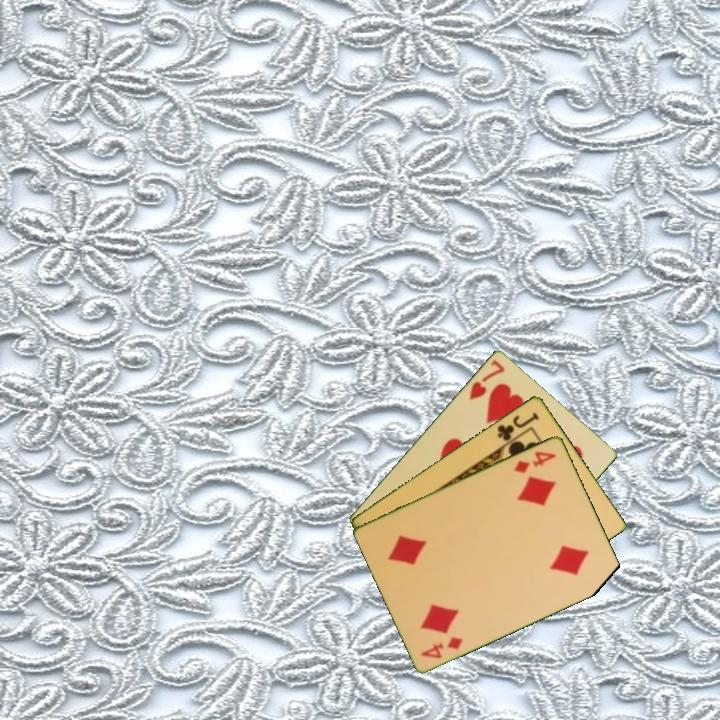4d: (510, 447, 559, 476), (417, 633, 466, 661)
7h: (466, 356, 508, 403)
Jc: (493, 408, 542, 444)
